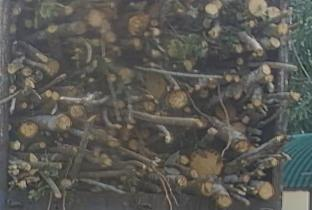large: (189, 150, 222, 178), (128, 15, 150, 36), (146, 74, 163, 100)
medium: (216, 103, 234, 120), (88, 10, 104, 28), (167, 40, 183, 57), (248, 0, 266, 15), (168, 93, 185, 108), (260, 184, 273, 200), (20, 123, 36, 136), (58, 115, 71, 130), (119, 67, 131, 83), (70, 106, 84, 117), (217, 195, 229, 207), (234, 141, 247, 152), (48, 61, 58, 75), (204, 4, 217, 14), (290, 92, 301, 102), (270, 38, 280, 48), (76, 22, 85, 33), (277, 23, 286, 34), (128, 140, 137, 150), (36, 54, 47, 62), (177, 177, 186, 186), (6, 64, 14, 74), (261, 65, 269, 74), (106, 33, 114, 42), (60, 180, 70, 187), (35, 70, 42, 80), (22, 68, 30, 76), (91, 38, 99, 46), (29, 154, 36, 163), (253, 99, 262, 106), (51, 92, 58, 100), (180, 156, 187, 164), (183, 61, 190, 69), (236, 45, 242, 54), (107, 141, 117, 146), (24, 21, 31, 28), (242, 174, 248, 182), (104, 160, 111, 166), (271, 159, 277, 166)
small: (14, 141, 21, 150), (191, 170, 198, 179), (206, 128, 216, 134), (48, 25, 56, 32), (107, 74, 114, 82), (133, 39, 139, 46), (195, 119, 201, 126), (164, 135, 169, 143), (13, 170, 19, 176), (242, 116, 248, 122), (234, 76, 239, 83), (225, 75, 230, 82), (152, 29, 159, 34), (21, 102, 26, 108), (25, 166, 31, 171), (194, 85, 199, 91), (55, 193, 60, 198), (45, 91, 50, 96), (257, 171, 262, 176), (249, 21, 253, 27), (150, 21, 156, 25), (149, 62, 155, 66), (257, 50, 261, 56), (126, 125, 131, 129), (242, 192, 246, 197), (58, 163, 61, 169), (114, 125, 120, 128), (40, 143, 44, 147), (88, 78, 92, 82), (245, 202, 249, 206), (259, 164, 263, 168), (143, 165, 146, 170), (243, 189, 247, 192), (251, 188, 255, 191), (64, 134, 67, 137), (243, 107, 246, 110), (230, 186, 233, 189), (253, 191, 256, 194), (13, 165, 15, 169), (59, 138, 61, 142)
